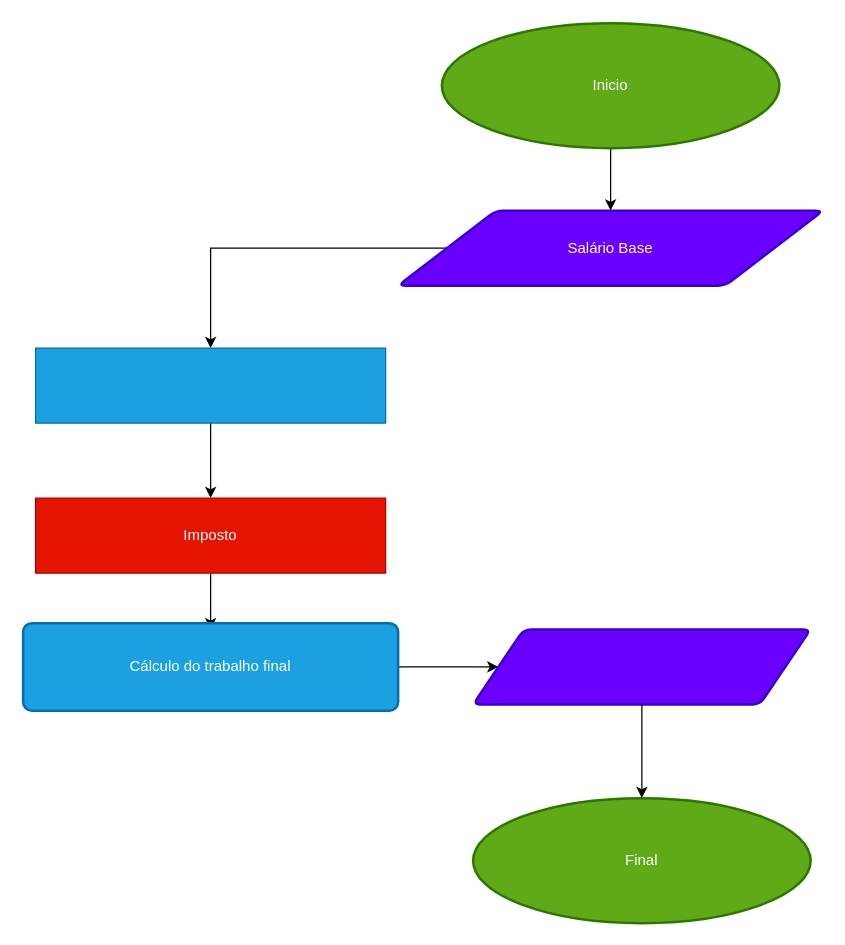
The diagram is 845 pixels wide and 945 high, and some of its shapes have lost their labels. The centre of each missing label's shape, as x and y in pixels:
"Gratificação" belongs at (x=210, y=385).
"Salário final" belongs at (x=641, y=666).
